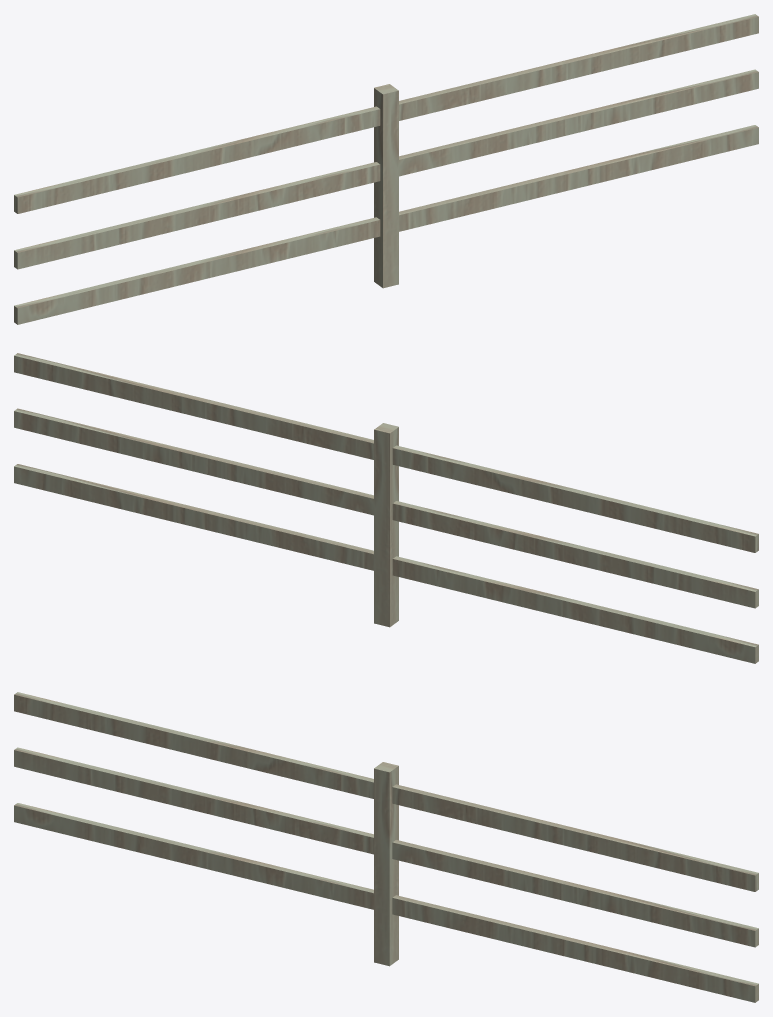
The picture shows the model from 3 angles, top to bottom: view 1: azimuth 30°, elevation 25°; view 2: azimuth 150°, elevation 25°; view 3: azimuth 330°, elevation 25°; orthographic projection.
Visible parts, largest first — view 1: brid_rln013_woodsemwhite_0; view 2: brid_rln013_woodsemwhite_0; view 3: brid_rln013_woodsemwhite_0.
Boxes of the visible parts, <box> form: brid_rln013_woodsemwhite_0: <box>14,14,758,324</box>; brid_rln013_woodsemwhite_0: <box>14,353,758,663</box>; brid_rln013_woodsemwhite_0: <box>14,692,758,1002</box>.
Bounding box in the file's own units: 2.8 × 0.7 × 0.06.
Materials: 1 (1 with a texture image).
